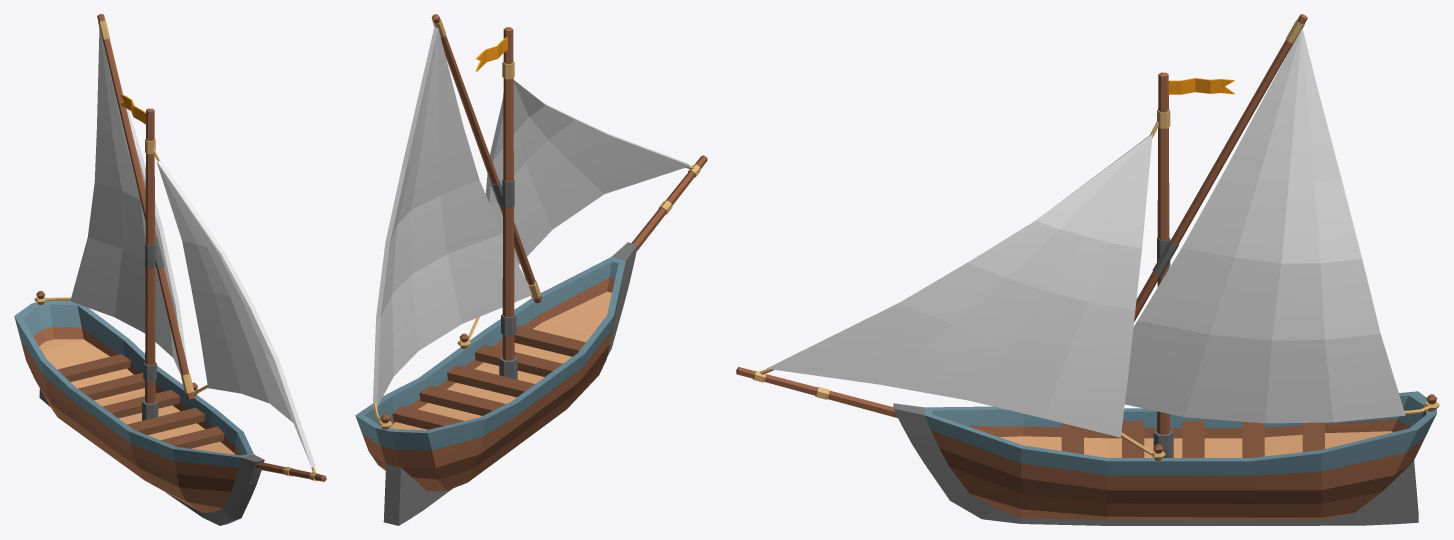
File: ship-4.glb
3 views of the same model, side by side, from view 1: azimuth 30°, elevation 25°; view 2: azimuth 150°, elevation 25°; view 3: azimuth 270°, elevation 25° (orthographic). The views are drawn at different scales.
Parts seen in each view (by area): view 1: ship_4; view 2: ship_4; view 3: ship_4.
Part boxes in pixels (box(x1,y1,x2,y2)): ship_4: box(14, 14, 326, 525); ship_4: box(355, 14, 707, 525); ship_4: box(736, 14, 1439, 525).
Size of the model in its own units: 3.02 by 13.3 by 16.55.
Materials: 1 (1 with a texture image).
